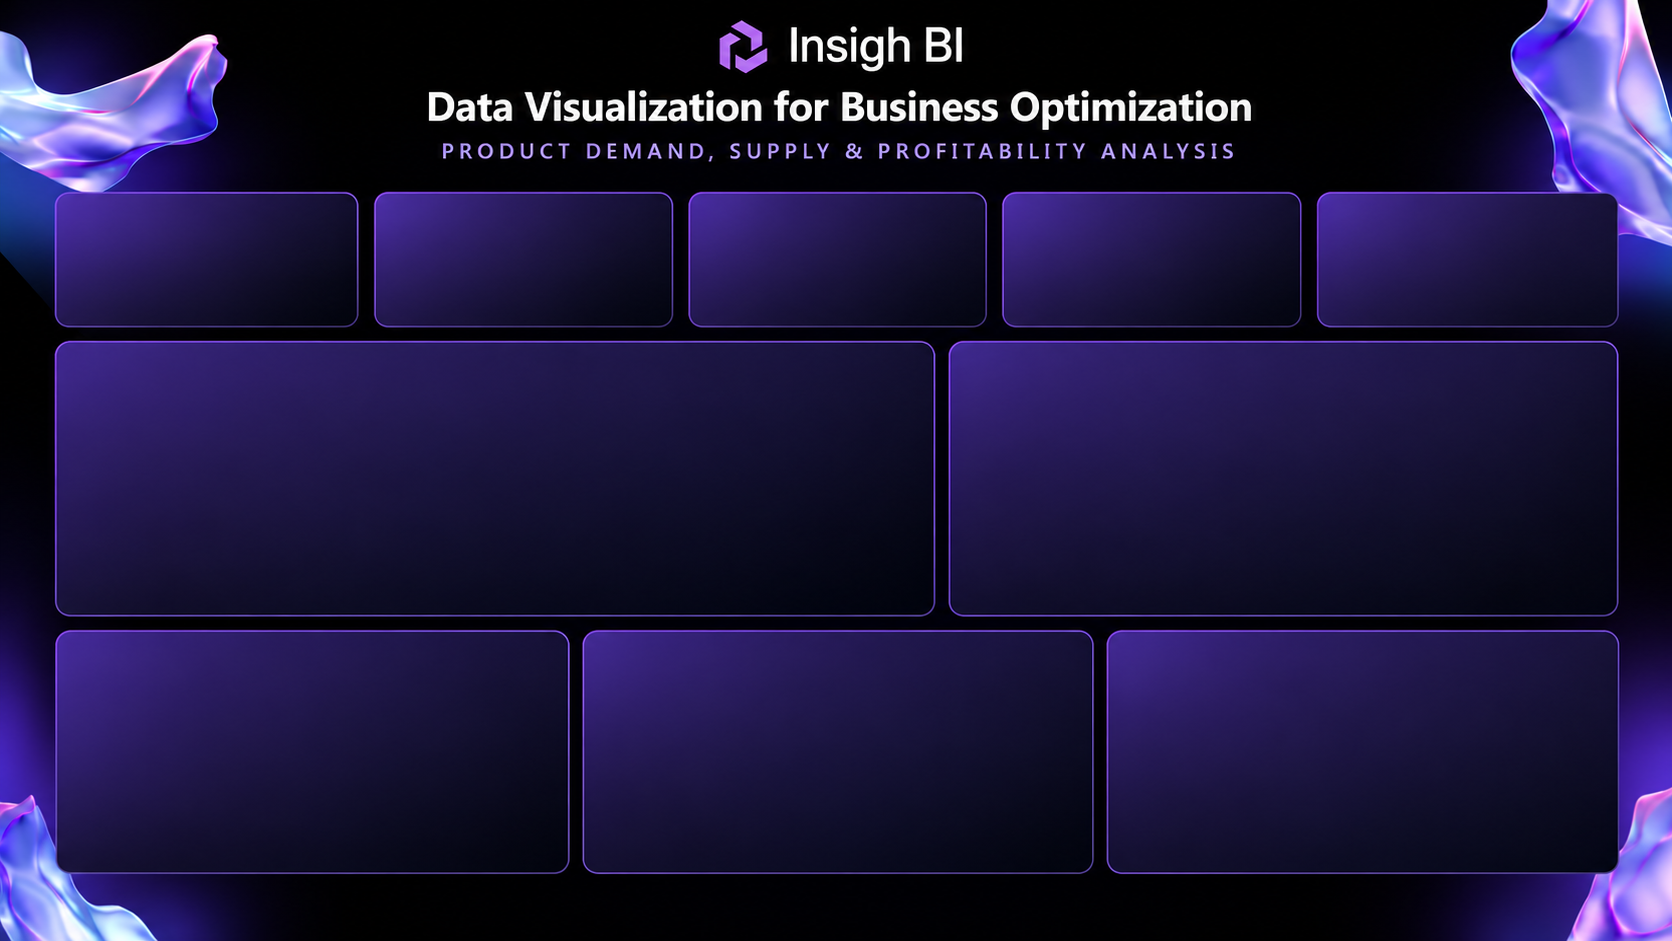

What the dashboard file says about the page in this screenshot:
{"tool":"powerbi","page":{"name":"Product Demand & Profitability","canvas":[1280,720],"ordinal":2},"visuals":[{"type":"cardVisual","fields":{"Data":["Count(DA Table.Product_ID)"]},"box":[37,146,241,104],"z":0},{"type":"cardVisual","fields":{"Data":["CountNonNull(DA Table.Product_ID)"]},"box":[285,146,229,104],"z":1000},{"type":"cardVisual","fields":{"Data":["Measures Table 1.Supply Shortage"]},"box":[533,146,221,104],"z":2000},{"type":"cardVisual","fields":{"Data":["Measures Table 2.Total Profit"]},"box":[766,146,231,104],"z":3000},{"type":"cardVisual","fields":{"Data":["Measures Table 2.Total Loss"]},"box":[1011,146,228,104],"z":4000},{"type":"clusteredColumnChart","title":"Demand vs Availability by Product","fields":{"Category":["DA Table.Product_ID"],"Y":["Measures Table 1.Total Demand","Measures Table 1.Total Availibility"]},"box":[47,265,665,198],"z":5000},{"type":"barChart","fields":{"Category":["DA Table.Product_Name"],"Y":["Measures Table 1.Supply Shortage"]},"box":[729,265,501,198],"z":6000},{"type":"columnChart","title":"Revenue Impact of Lost Sales by Product","fields":{"Category":["DA Table.Product_Name"],"Y":["Measures Table 2.Average Daily Loss"]},"box":[47,488,387,170],"z":7000},{"type":"barChart","title":"Top 5 Products by Total Loss","fields":{"Category":["DA Table.Product_Name"],"Y":["Measures Table 2.Total Loss"]},"box":[454,488,378,173],"z":8000},{"type":"scatterChart","title":"Unit Price vs Supply Shortage","fields":{"X":["Measures Table 1.Supply Shortage"],"Y":["DA Table.Unit_Price"]},"box":[853,488,377,173],"z":9000}]}

Visuals, with their boxes in screenshot pixels (x1, y1, x2, y2), scaled from the page's 1280x720 canvas onto the 1672x941 screenshot:
cardVisual - Count(DA Table.Product_ID): Rect(48, 191, 363, 327)
cardVisual - CountNonNull(DA Table.Product_ID): Rect(372, 191, 671, 327)
cardVisual - Measures Table 1.Supply Shortage: Rect(696, 191, 985, 327)
cardVisual - Measures Table 2.Total Profit: Rect(1001, 191, 1302, 327)
cardVisual - Measures Table 2.Total Loss: Rect(1321, 191, 1618, 327)
"Demand vs Availability by Product" clusteredColumnChart: Rect(61, 346, 930, 605)
barChart - DA Table.Product_Name x Measures Table 1.Supply Shortage: Rect(952, 346, 1607, 605)
"Revenue Impact of Lost Sales by Product" columnChart: Rect(61, 638, 567, 860)
"Top 5 Products by Total Loss" barChart: Rect(593, 638, 1087, 864)
"Unit Price vs Supply Shortage" scatterChart: Rect(1114, 638, 1607, 864)
